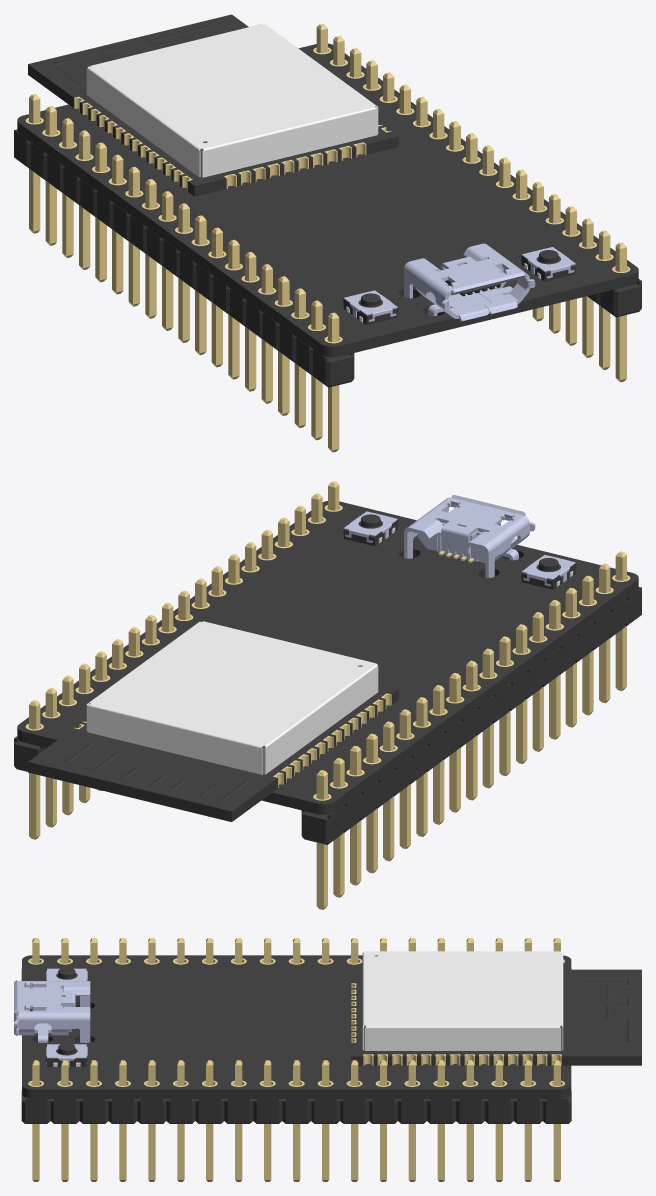
File: ESP32-DEVKITC.obj
The picture shows the model from 3 angles, top to bottom: view 1: azimuth 30°, elevation 25°; view 2: azimuth 150°, elevation 25°; view 3: azimuth 270°, elevation 25°; orthographic projection. The views are drawn at different scales.
Parts seen in each view (by area): view 1: board-38, ESP32-WROOM-32D-27, ESP32-WROOM-32D-29, micro usb-11, header_2-24, header_2-37, header, header-1, header_2-7, header_2-25, header_2-33, header_2-35 (+20 smaller); view 2: board-38, ESP32-WROOM-32D-27, ESP32-WROOM-32D-29, micro usb-11, header_2-1, header_1, header-37, header_2-26, header_2-8, header_2-33, header_2-36, header_2-7 (+18 smaller); view 3: board-38, ESP32-WROOM-32D-27, ESP32-WROOM-32D-29, micro usb-11, header-1, header-24, header-2, header-4, header-5, header-6, header-12, header-13 (+31 smaller).
Boxes of the visible parts, bbox=[...] form: board-38: bbox=[17, 43, 638, 357]; ESP32-WROOM-32D-27: bbox=[86, 24, 378, 177]; ESP32-WROOM-32D-29: bbox=[28, 14, 398, 196]; micro usb-11: bbox=[404, 243, 535, 321]; header_2-24: bbox=[313, 349, 354, 387]; header_2-37: bbox=[328, 312, 339, 452]; header: bbox=[615, 242, 626, 382]; header-1: bbox=[600, 279, 641, 317]; header_2-7: bbox=[45, 106, 56, 245]; header_2-25: bbox=[128, 167, 139, 306]; header_2-33: bbox=[261, 264, 272, 403]; header_2-35: bbox=[294, 288, 305, 428]; board-38: bbox=[17, 501, 638, 814]; ESP32-WROOM-32D-27: bbox=[86, 621, 378, 774]; ESP32-WROOM-32D-29: bbox=[28, 684, 398, 821]; micro usb-11: bbox=[404, 495, 535, 577]; header_2-1: bbox=[301, 806, 342, 844]; header_1: bbox=[316, 770, 327, 909]; header-37: bbox=[29, 700, 40, 839]; header_2-26: bbox=[433, 685, 444, 824]; header_2-8: bbox=[350, 746, 361, 885]; header_2-33: bbox=[549, 600, 560, 739]; header_2-36: bbox=[599, 563, 610, 703]; header_2-7: bbox=[333, 758, 344, 897]; board-38: bbox=[22, 955, 571, 1098]; ESP32-WROOM-32D-27: bbox=[362, 951, 563, 1050]; ESP32-WROOM-32D-29: bbox=[351, 969, 641, 1065]; micro usb-11: bbox=[14, 980, 90, 1042]; header-1: bbox=[21, 1091, 50, 1123]; header-24: bbox=[542, 1091, 571, 1123]; header-2: bbox=[50, 1099, 79, 1123]; header-4: bbox=[108, 1099, 137, 1123]; header-5: bbox=[137, 1099, 166, 1123]; header-6: bbox=[166, 1099, 195, 1123]; header-12: bbox=[195, 1099, 224, 1123]; header-13: bbox=[224, 1099, 253, 1123].
Bounding box in the file's own units: 27.94 × 12.69 × 55.1.
